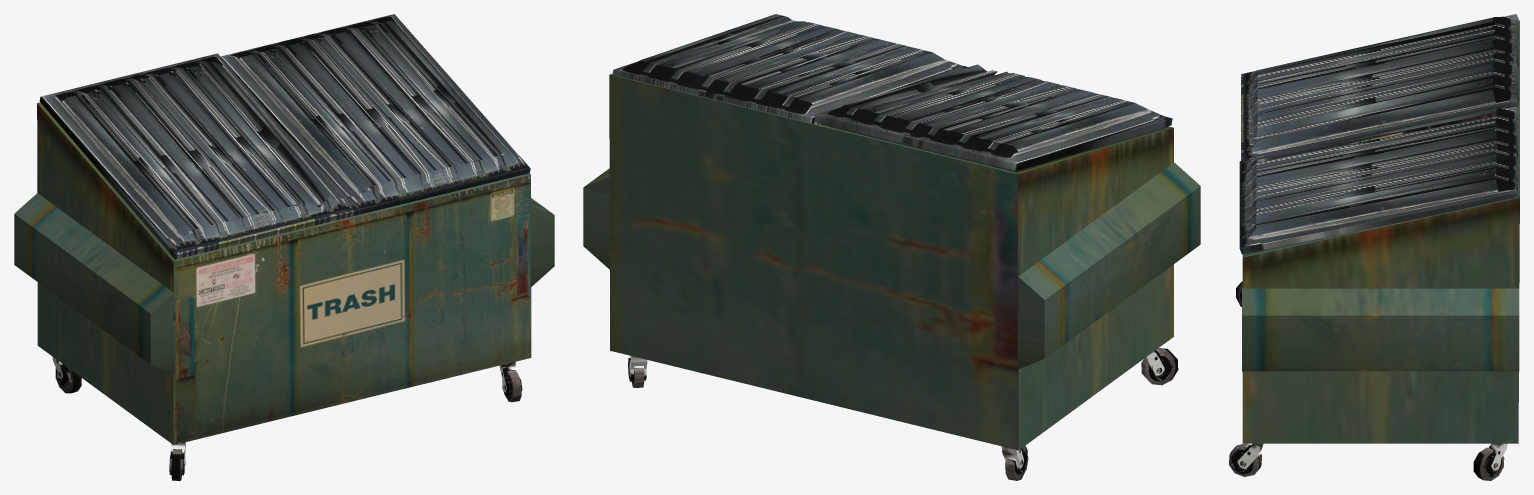
The model's file is dumpster_closed_500.fbx.
3 views of the same model, side by side, from view 1: azimuth 30°, elevation 25°; view 2: azimuth 150°, elevation 25°; view 3: azimuth 270°, elevation 25° (orthographic). The views are drawn at different scales.
Visible parts, largest first — view 1: box0, doora0, doorb0, NoName_9, wheels0, bolsters0; view 2: box0, doora0, doorb0, NoName_9, wheels0, bolsters0; view 3: box0, doorb0, doora0, bolsters0, wheels0.
Boxes of the visible parts, bbox=[...] form: box0: bbox=[37, 102, 531, 444]; doora0: bbox=[39, 53, 353, 259]; doorb0: bbox=[220, 14, 530, 216]; NoName_9: bbox=[14, 193, 174, 374]; wheels0: bbox=[52, 356, 522, 480]; bolsters0: bbox=[530, 198, 554, 286]; box0: bbox=[609, 55, 1173, 450]; doora0: bbox=[814, 64, 1172, 171]; doorb0: bbox=[612, 14, 968, 124]; NoName_9: bbox=[1017, 162, 1200, 369]; wheels0: bbox=[628, 348, 1178, 480]; bolsters0: bbox=[583, 168, 610, 270]; box0: bbox=[1242, 20, 1519, 443]; doorb0: bbox=[1239, 105, 1517, 254]; doora0: bbox=[1241, 14, 1518, 162]; bolsters0: bbox=[1242, 288, 1519, 371]; wheels0: bbox=[1229, 281, 1507, 480].
Size of the model in its own units: 3.56 by 2.47 by 2.19.
